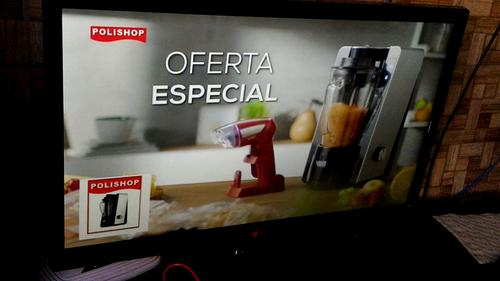Polishop #1: (79, 173, 151, 239)
